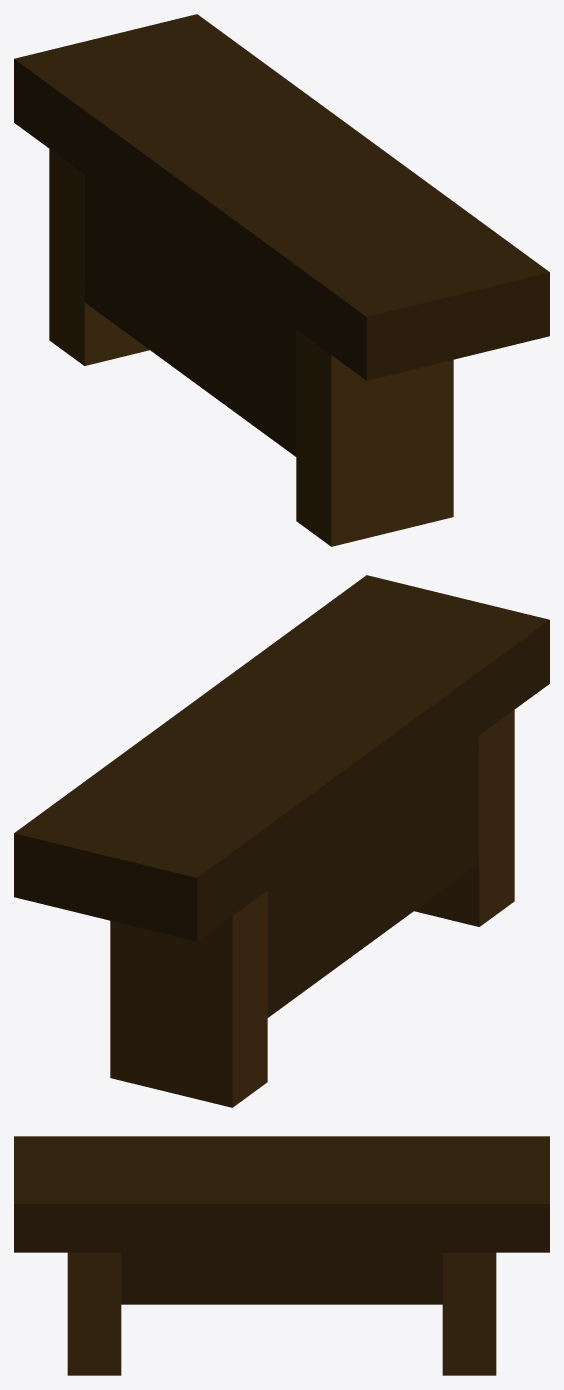
File: shelve1.obj
The picture shows the model from 3 angles, top to bottom: view 1: azimuth 30°, elevation 25°; view 2: azimuth 150°, elevation 25°; view 3: azimuth 270°, elevation 25°; orthographic projection. The views are drawn at different scales.
Visible parts, largest first — view 1: shelve1; view 2: shelve1; view 3: shelve1.
Part boxes in pixels (x1,y1,x2,y2): shelve1: [14, 14, 549, 546]; shelve1: [14, 575, 549, 1107]; shelve1: [14, 1136, 549, 1375].
Size of the model in its own units: 3 by 4 by 10.
